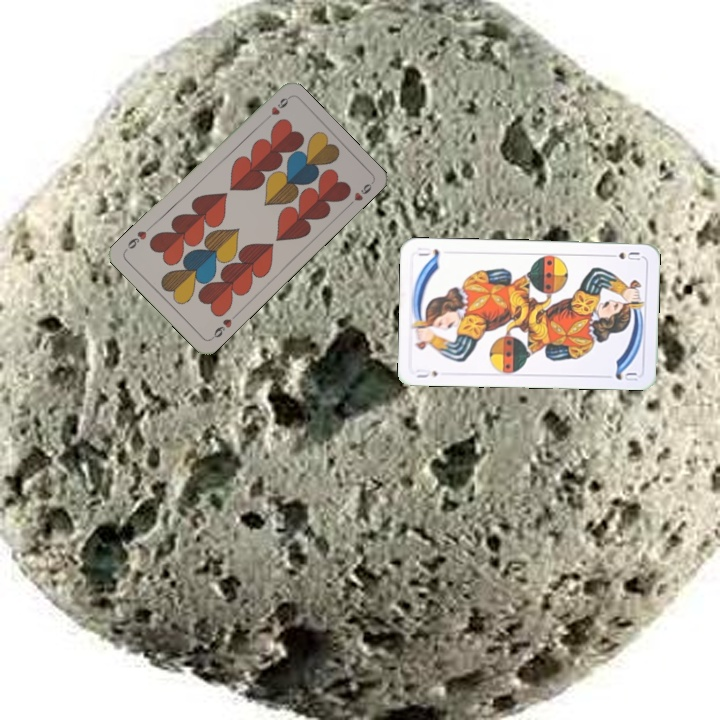H9: (207, 310, 239, 342), (259, 94, 292, 125)
SU: (603, 248, 643, 263), (412, 365, 440, 381)
